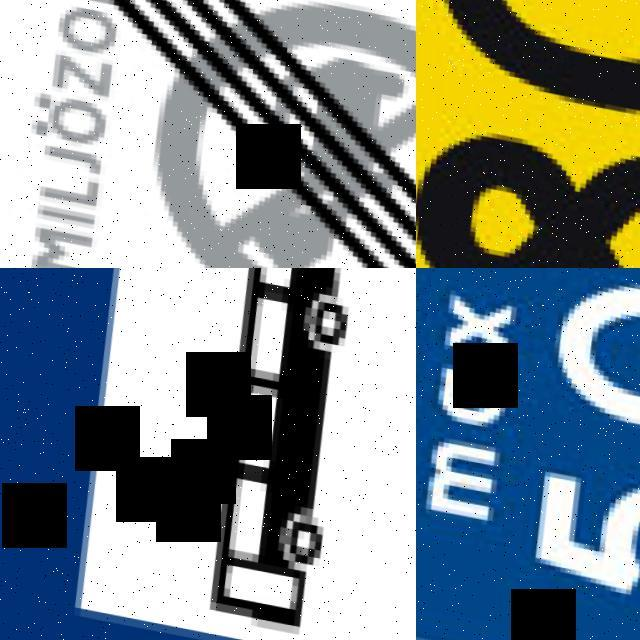102: (416, 268, 640, 640)
110: (0, 0, 416, 268)
55: (416, 0, 640, 268)
Bus stop: (0, 268, 416, 640)
speed limit-80: (416, 0, 640, 268)
